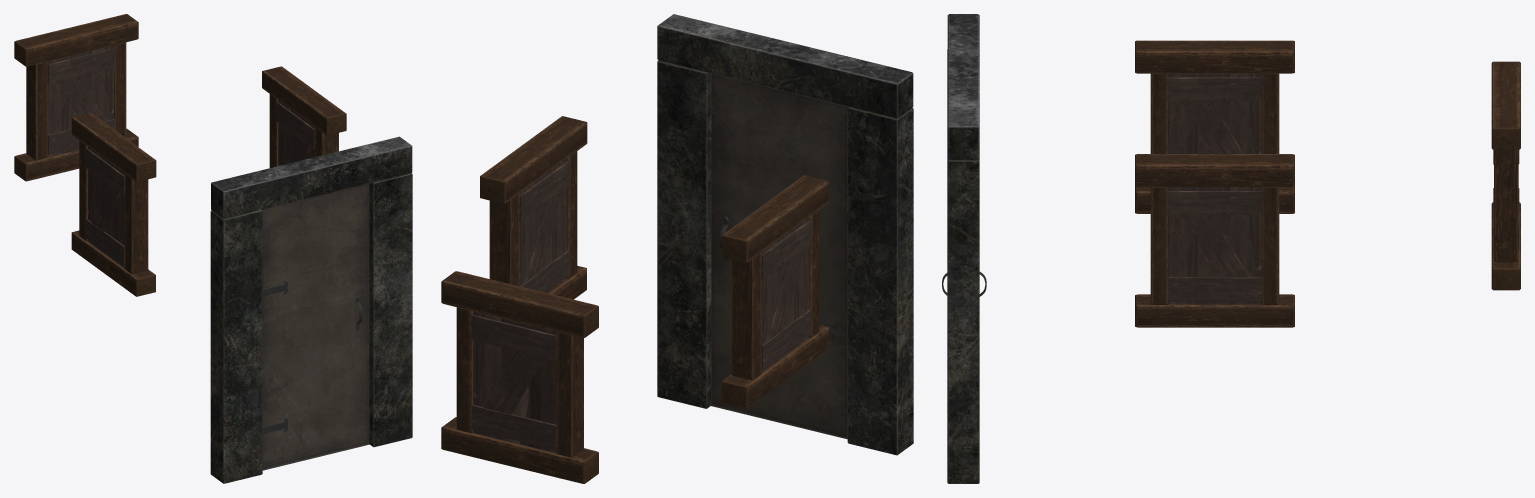
File: BasicBuilding4.glb
The picture shows the model from 3 angles, left to right: view 1: azimuth 30°, elevation 25°; view 2: azimuth 150°, elevation 25°; view 3: azimuth 270°, elevation 25°; orthographic projection. The views are drawn at different scales.
Visible parts, largest first — view 1: Door 1 Square Frame 2, Door1Square2, WindowFrame1, WindowCoverInside, HingeA_Wall; view 2: Door 1 Square Frame 2, WindowFrame1, Door1Square2, WindowCoverInside; view 3: WindowFrame1, WindowCoverInside, Door 1 Square Frame 2.
Part boxes in pixels (box(x1,y1,x2,y2)): Door 1 Square Frame 2: box(210, 136, 412, 483); Door1Square2: box(262, 183, 369, 470); WindowFrame1: box(14, 14, 346, 296); WindowCoverInside: box(47, 45, 314, 267); HingeA_Wall: box(262, 280, 362, 434); Door 1 Square Frame 2: box(657, 14, 913, 455); WindowFrame1: box(441, 116, 829, 483); Door1Square2: box(711, 73, 848, 439); WindowCoverInside: box(471, 159, 811, 452); WindowFrame1: box(1135, 40, 1520, 327); WindowCoverInside: box(1168, 73, 1519, 304); Door 1 Square Frame 2: box(947, 14, 979, 483).
Bounding box in the file's own units: 2.1 × 2.79 × 4.09.
5 materials, 5 textured.
